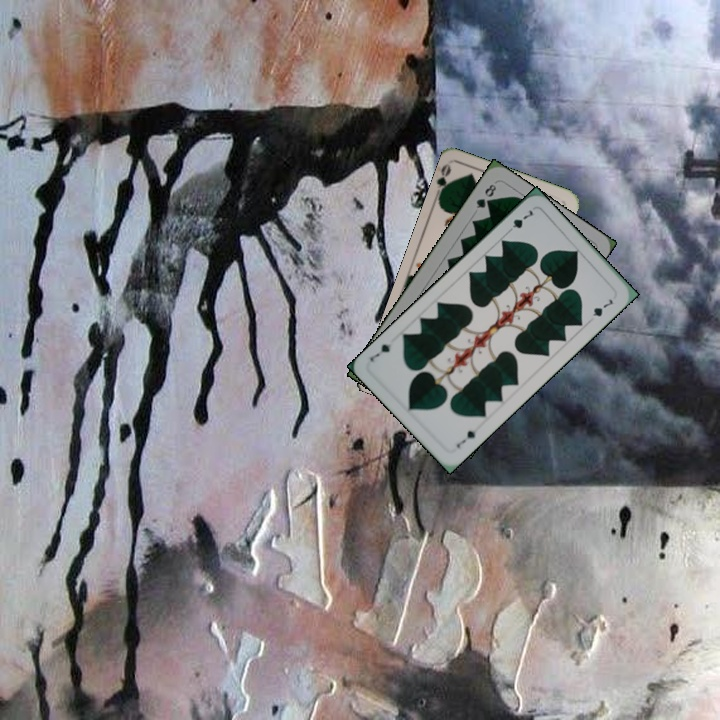G7: (502, 206, 535, 236), (452, 424, 482, 451)
G8: (472, 180, 499, 211)
GO: (431, 160, 455, 201)
